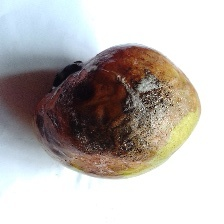guava: (43, 52, 218, 213)
